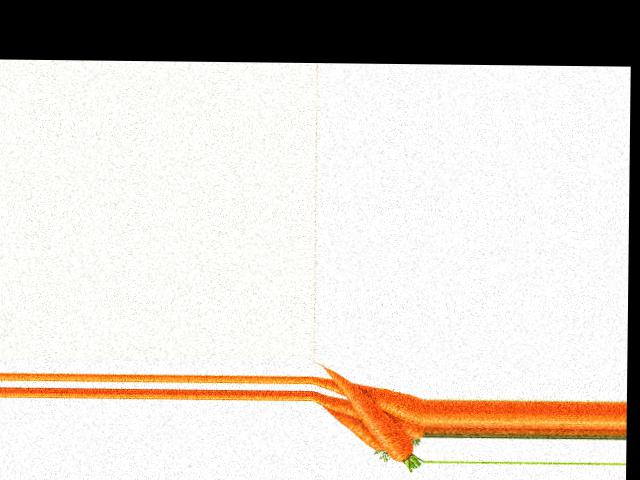carrot: (338, 390, 424, 424)
